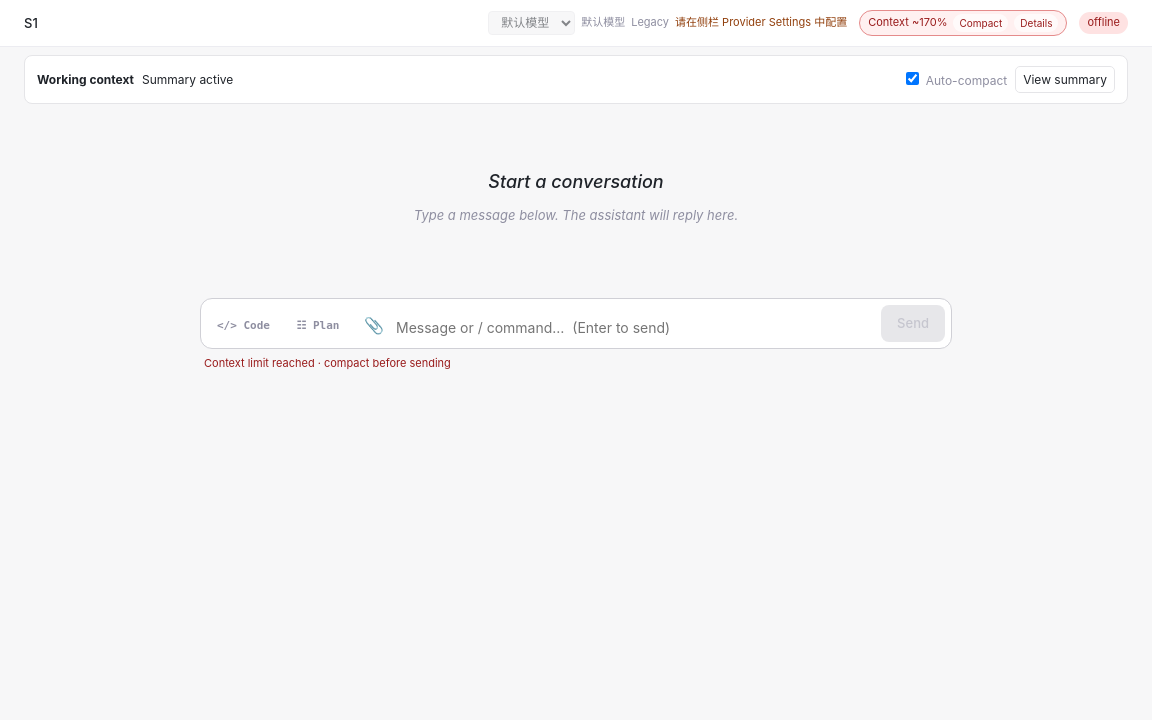
Test: ChatPanel integration › shows a separate plain-text working summary and pages through original source text
The width and height of the screenshot is (1152, 720).
Click the button with test id "context-details-button" at (1036, 23), box [1014,14,1058,32]
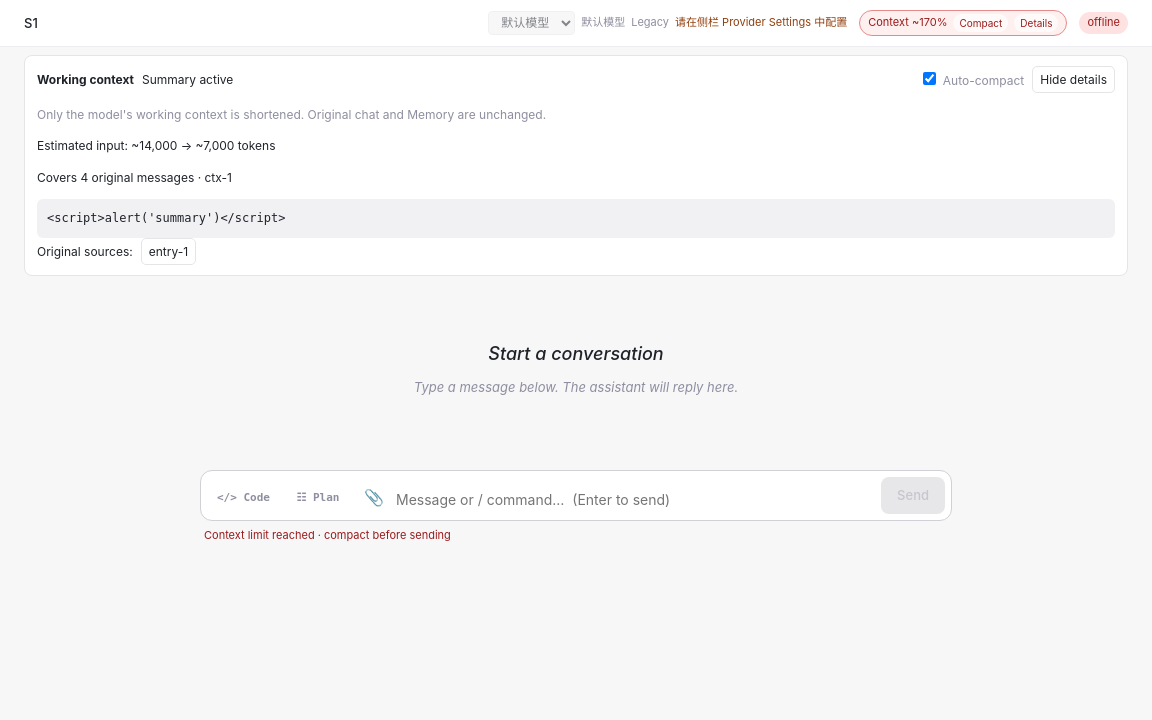
Check: the element with test id "context-summary-card" shows "Original chat and Memory are unchanged", box [37,107,546,122]
Check: the text with test id "context-token-change" shows "14,000 → ~7,000", box [37,138,276,153]
Click the button with test id "context-source-button" at (168, 252), box [141,238,196,265]
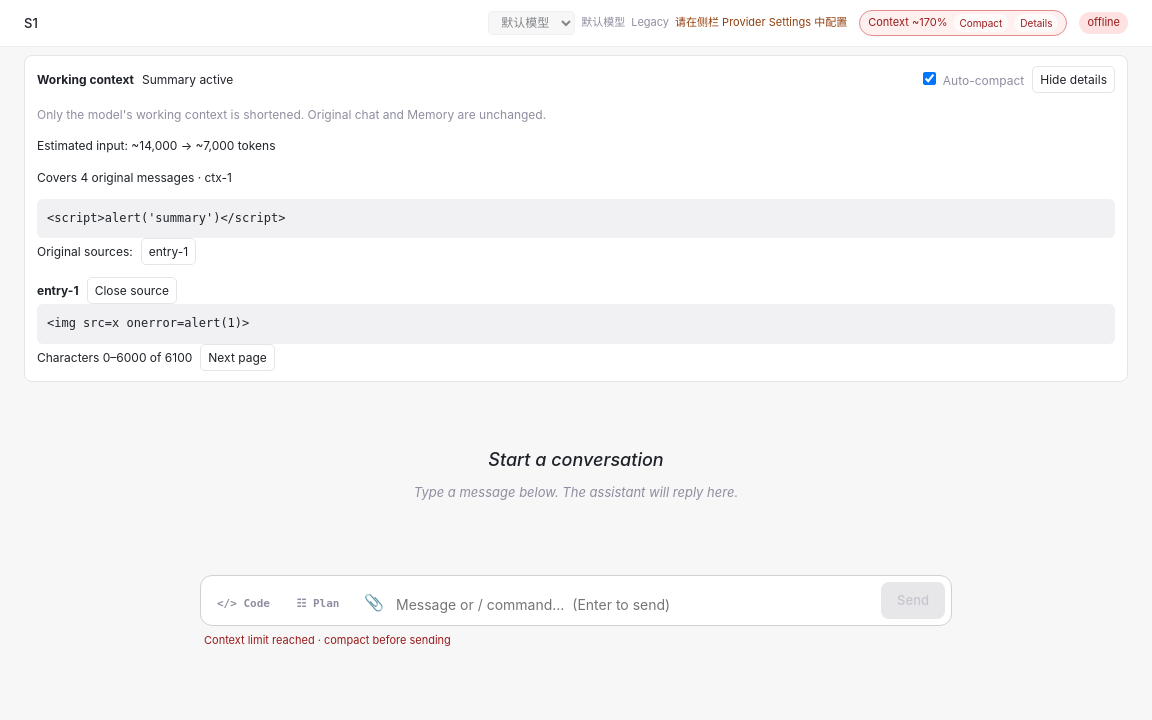
Click the button "Next page" at (238, 357), box [200,344,275,371]
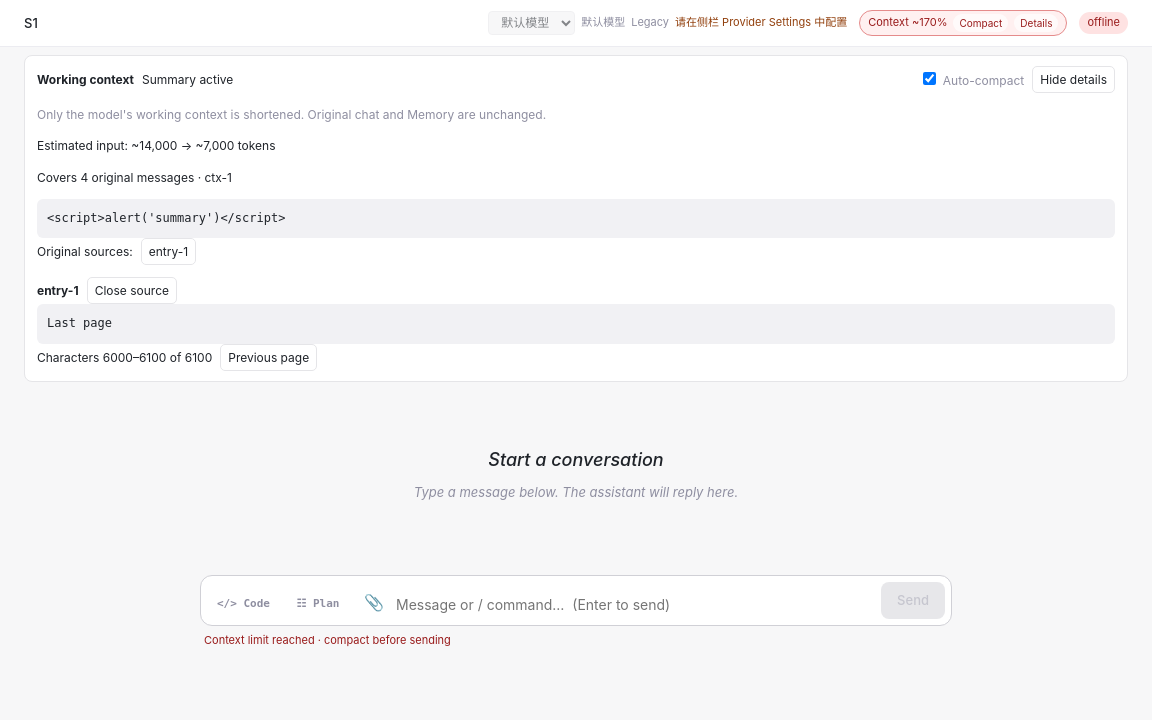
Check: the text "Last page" is shown, box [37,304,1115,344]
